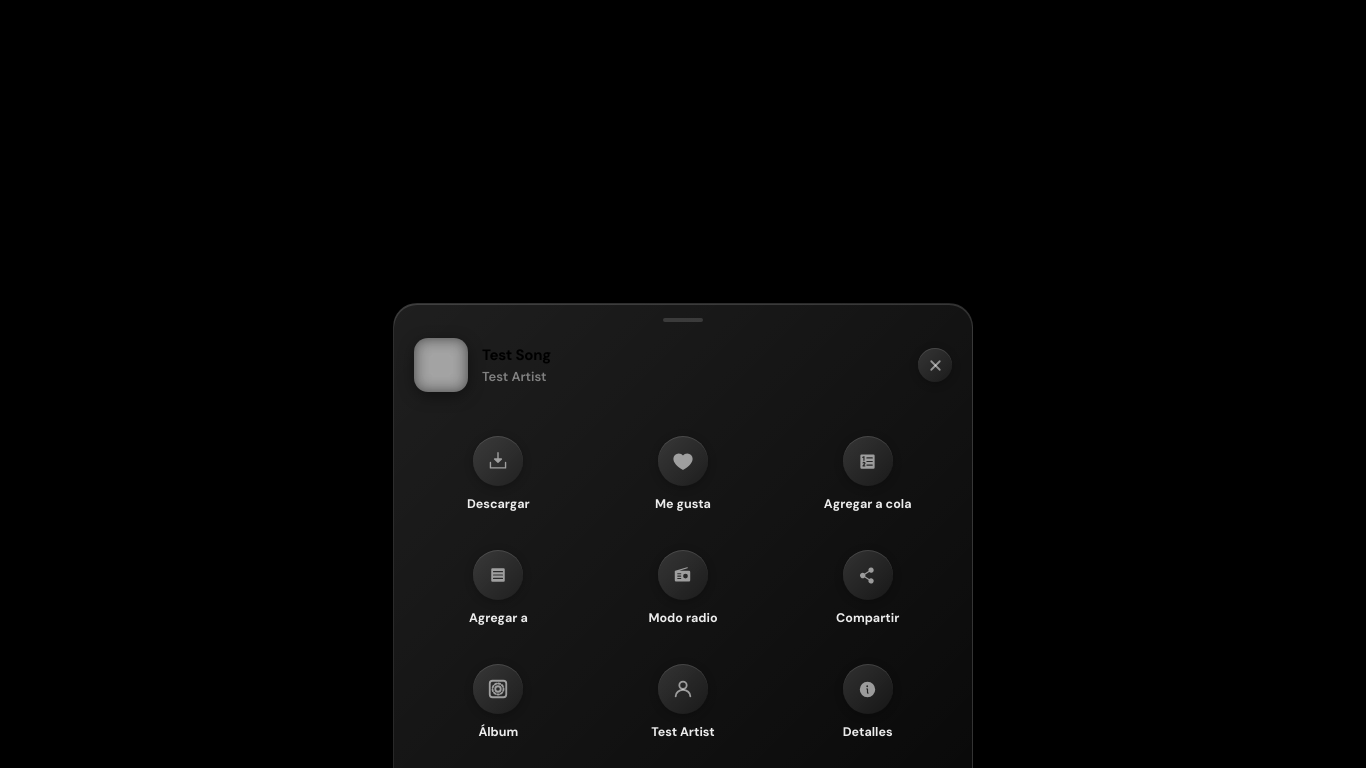
Test: SongOptionsSheet › should fetch details when Detalles is clicked
Click the button "Detalles" at (868, 701), box [777,646,958,756]
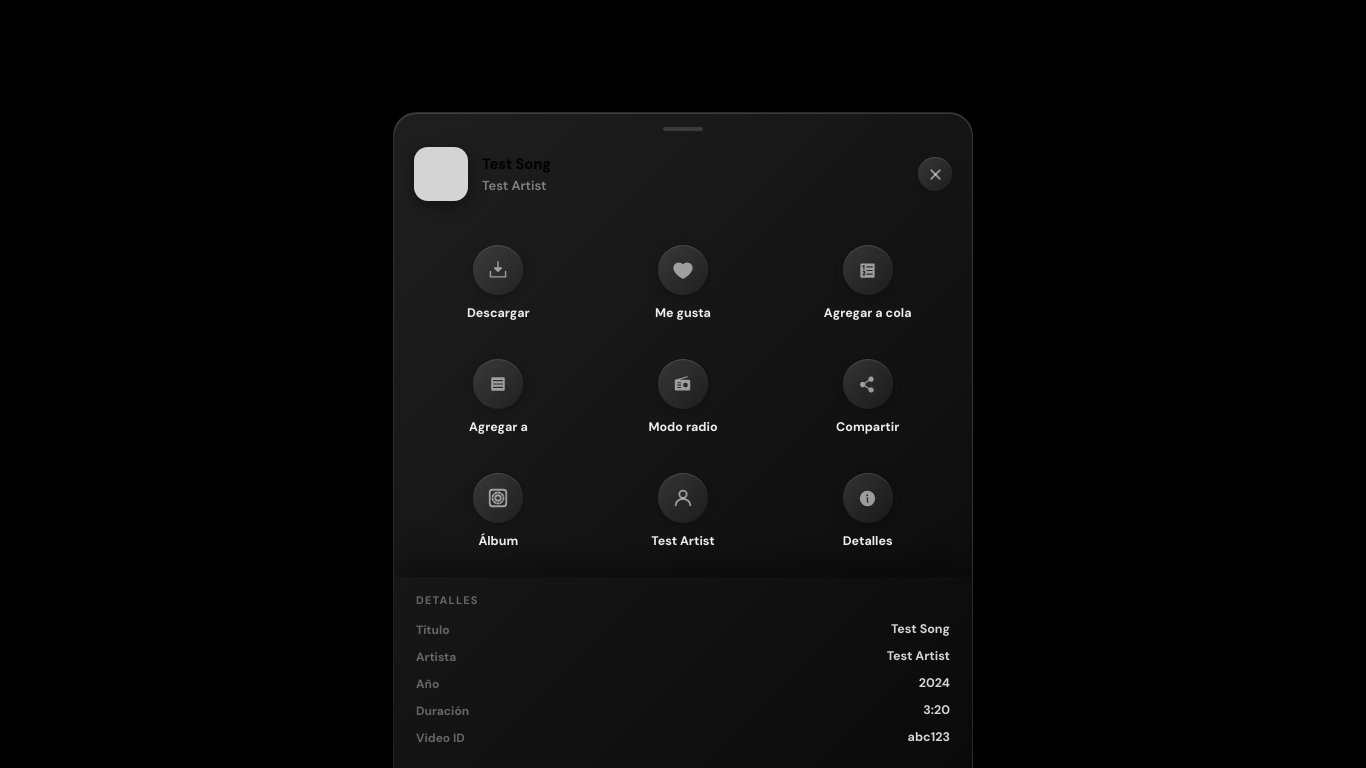
Expected: the text "Cargando..." is shown, [416,621,950,746]
Expected: the text "Año" is shown, [416,675,439,692]
